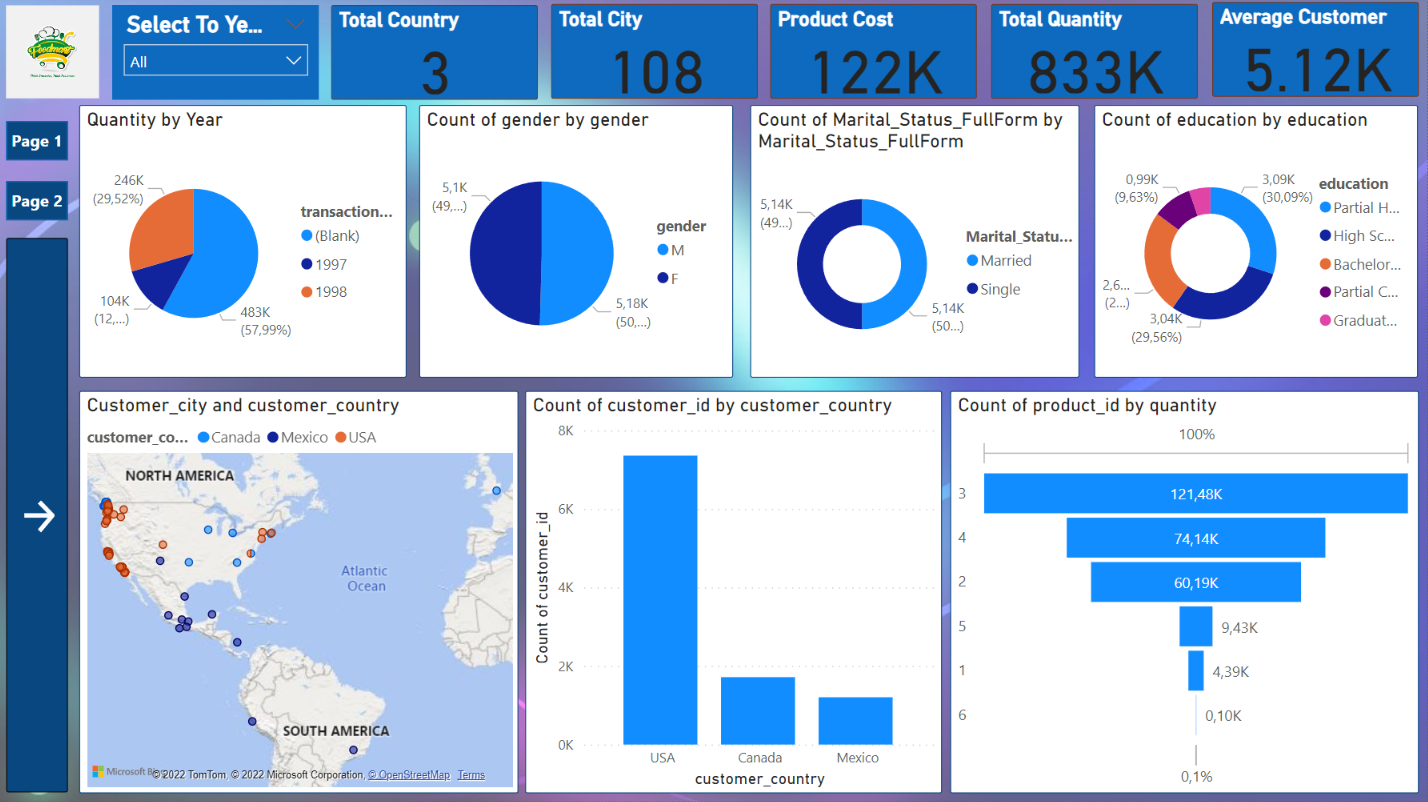

The page's visual inventory and layout, read from the dashboard file:
{"tool":"powerbi","page":{"name":"Page 1","canvas":[1280,720],"ordinal":0},"visuals":[{"type":"pieChart","title":"Quantity by Year","fields":{"Category":["Total_Transactions (2).transaction_date.Variation.Date Hierarchy.Year","Total_Transactions (2).transaction_date.Variation.Date Hierarchy.Quarter","Total_Transactions (2).transaction_date.Variation.Date Hierarchy.Month","Total_Transactions (2).transaction_date.Variation.Date Hierarchy.Day"],"Y":["Sum(Total_Transactions (2).quantity)"]},"box":[73.9,96.3,292.8,244.1],"z":0},{"type":"card","title":"Total Country","fields":{"Values":["Customer_Lookup.Total Country"]},"box":[299.6,6.8,184.8,84.6],"z":1000},{"type":"slicer","fields":{"Values":["Total_Transactions (2).transaction_date.Variation.Date Hierarchy.Year","Total_Transactions (2).transaction_date.Variation.Date Hierarchy.Quarter","Total_Transactions (2).transaction_date.Variation.Date Hierarchy.Month","Total_Transactions (2).transaction_date.Variation.Date Hierarchy.Day","Total_Transactions (2).quantity"]},"box":[104.1,6.8,184.8,84.6],"z":2000},{"type":"actionButton","box":[8.8,215.9,55.4,496],"z":3000},{"type":"image","box":[0,2.9,100.2,93.4],"z":4000},{"type":"shape","box":[8.8,164.4,55.4,35],"z":5000},{"type":"shape","box":[8.8,110.9,55.4,35],"z":6000},{"type":"card","title":"Total City","fields":{"Values":["Customer_Lookup.Total City"]},"box":[496,5.8,184.8,84.6],"z":7000},{"type":"card","title":"Total Quantity","fields":{"Values":["Sum(Total_Transactions (2).quantity)"]},"box":[890,5.8,184.8,84.6],"z":9000},{"type":"card","title":"Average Customer","fields":{"Values":["Avg(Total_Transactions (2).customer_id)"]},"box":[1087.4,4.9,184.8,84.6],"z":10000},{"type":"card","title":"Product Cost","fields":{"Values":["Sum(Product_Lookup.product_cost)"]},"box":[692.5,5.8,184.8,84.6],"z":10001},{"type":"pieChart","fields":{"Category":["Customer_Lookup.gender"],"Y":["CountNonNull(Customer_Lookup.gender)"]},"box":[378.4,96.3,281.1,244.1],"z":10002},{"type":"columnChart","fields":{"Category":["Customer_Lookup.customer_country"],"Y":["CountNonNull(Customer_Lookup.customer_id)"]},"box":[472.7,352.1,372.5,359.9],"z":10003},{"type":"map","title":"Customer_city and customer_country","fields":{"Category":["Customer_Lookup.customer_city"],"Series":["Customer_Lookup.customer_country"]},"box":[73.9,352.1,392.9,359.9],"z":10004},{"type":"donutChart","fields":{"Category":["Customer_Lookup.Marital_Status_FullForm"],"Y":["CountNonNull(Customer_Lookup.Marital_Status_FullForm)"]},"box":[674,96.3,294.7,244.1],"z":10005},{"type":"donutChart","fields":{"Category":["Customer_Lookup.education"],"Y":["CountNonNull(Customer_Lookup.education)"]},"box":[982.4,96.3,289.8,244.1],"z":10006},{"type":"funnel","fields":{"Category":["Total_Transactions (2).quantity"],"Y":["CountNonNull(Total_Transactions (2).product_id)"]},"box":[853,352.1,419.2,359.9],"z":10007}]}

Visuals, with their boxes on the page's 1280x720 design canvas (x1, y1, x2, y2). These are canvas units, not pixel positions in the 1428x802 screenshot, which may show the page scaled, cropped or inside an application window:
"Quantity by Year" pieChart: detection(74, 96, 367, 340)
"Total Country" card: detection(300, 7, 484, 91)
slicer - Total_Transactions (2).transaction_date.Variation.Date Hierarchy.Year x Total_Transactions (2).transaction_date.Variation.Date Hierarchy.Quarter: detection(104, 7, 289, 91)
actionButton: detection(9, 216, 64, 712)
image: detection(0, 3, 100, 96)
shape: detection(9, 164, 64, 199)
shape: detection(9, 111, 64, 146)
"Total City" card: detection(496, 6, 681, 90)
"Total Quantity" card: detection(890, 6, 1075, 90)
"Average Customer" card: detection(1087, 5, 1272, 90)
"Product Cost" card: detection(692, 6, 877, 90)
pieChart - Customer_Lookup.gender x CountNonNull(Customer_Lookup.gender): detection(378, 96, 660, 340)
columnChart - Customer_Lookup.customer_country x CountNonNull(Customer_Lookup.customer_id): detection(473, 352, 845, 712)
"Customer_city and customer_country" map: detection(74, 352, 467, 712)
donutChart - Customer_Lookup.Marital_Status_FullForm x CountNonNull(Customer_Lookup.Marital_Status_FullForm): detection(674, 96, 969, 340)
donutChart - Customer_Lookup.education x CountNonNull(Customer_Lookup.education): detection(982, 96, 1272, 340)
funnel - Total_Transactions (2).quantity x CountNonNull(Total_Transactions (2).product_id): detection(853, 352, 1272, 712)
